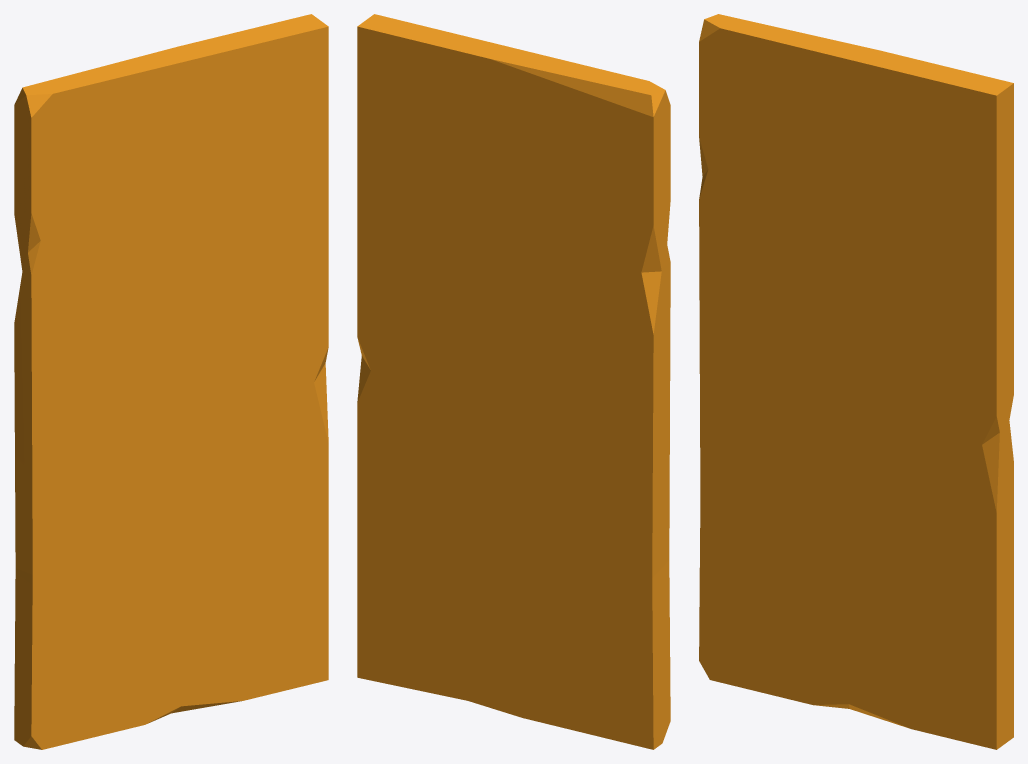
Rendered from SM_Buildings_Door_01P.fbx.
3 renders of one model, left to right at view 1: azimuth 30°, elevation 25°; view 2: azimuth 150°, elevation 25°; view 3: azimuth 330°, elevation 25°, orthographic.
Visible parts, largest first — view 1: SM_Buildings_Door_01P; view 2: SM_Buildings_Door_01P; view 3: SM_Buildings_Door_01P.
Part boxes in pixels (<box>): SM_Buildings_Door_01P: <box>14,14,328,749</box>; SM_Buildings_Door_01P: <box>357,14,670,749</box>; SM_Buildings_Door_01P: <box>699,14,1013,749</box>.
Bounding box in the file's own units: 100 × 210 × 10.
